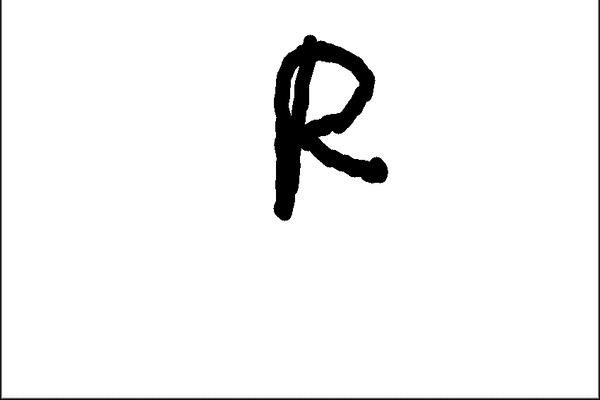R: (264, 35, 393, 231)
